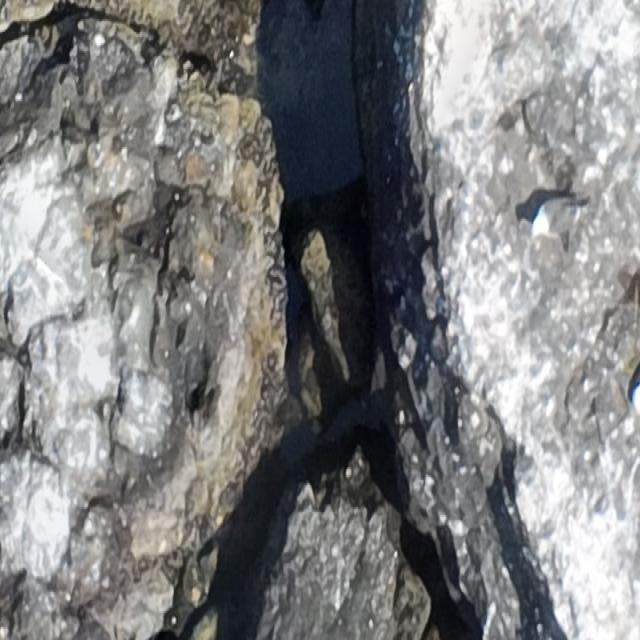umineko: (535, 198, 572, 235)
